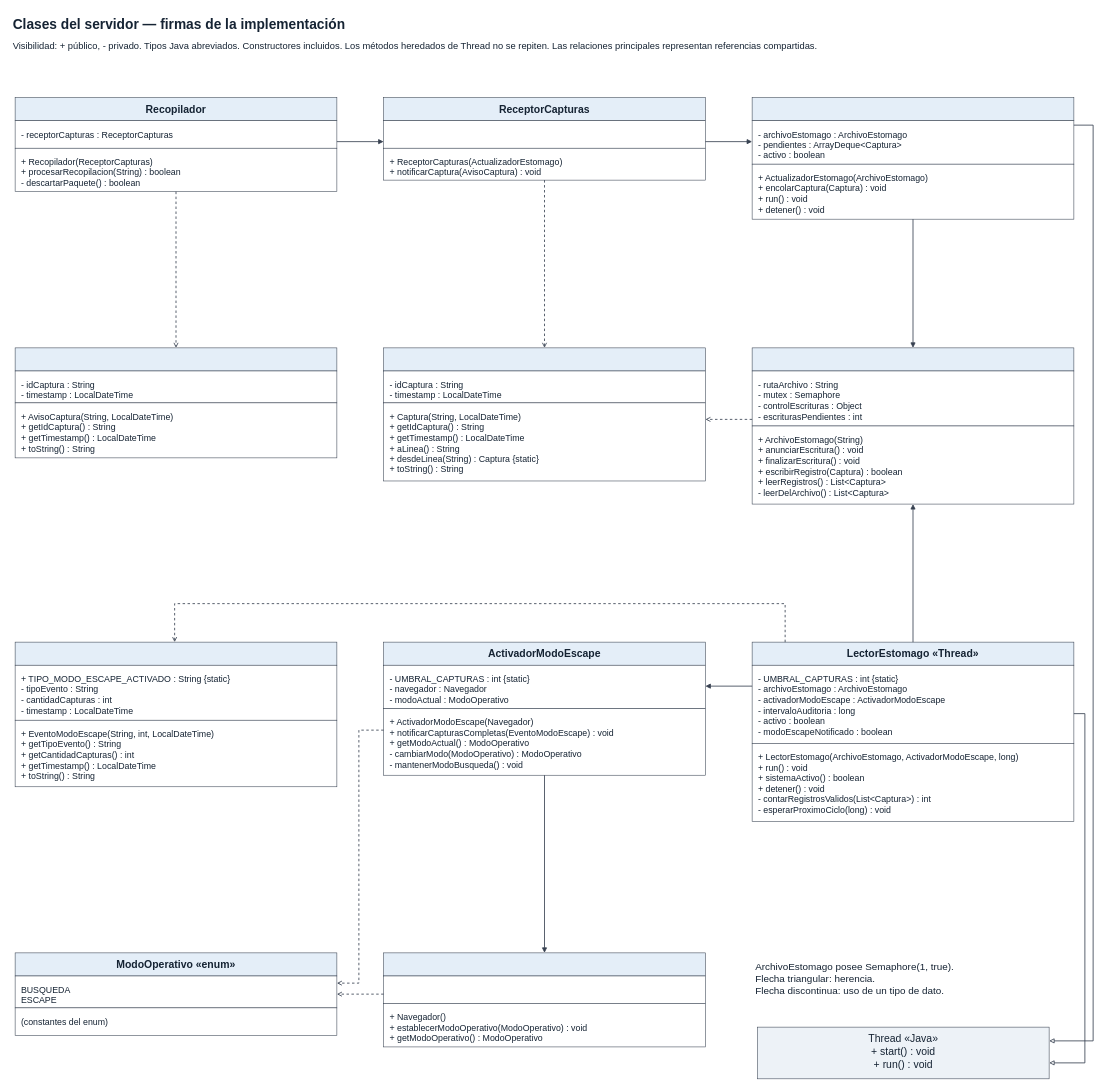
The diagram is 1107 pixels wide and 1088 high, and some of its shapes have lost their labels. Here are the shapes that lost their labels. From the top down, the centre of each, then its label:
point (913, 109): ActualizadorEstomago «Thread»
point (544, 134): - actualizadorEstomago : ActualizadorEstomago
point (176, 359): AvisoCaptura
point (544, 359): Captura
point (913, 359): ArchivoEstomago
point (176, 653): EventoModoEscape
point (544, 964): Navegador
point (544, 989): - modoOperativo : ModoOperativo
